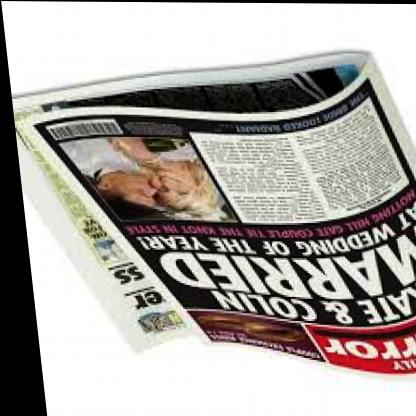Paper: (4, 47, 416, 407)
